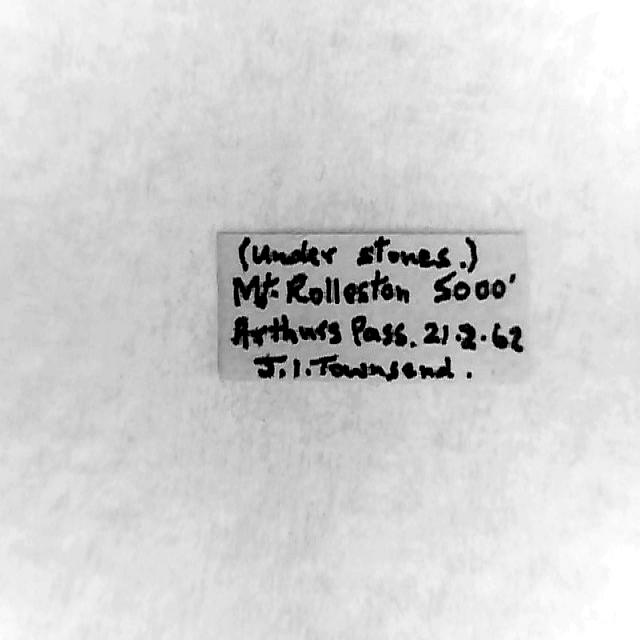hand_label: (219, 235, 528, 382)
